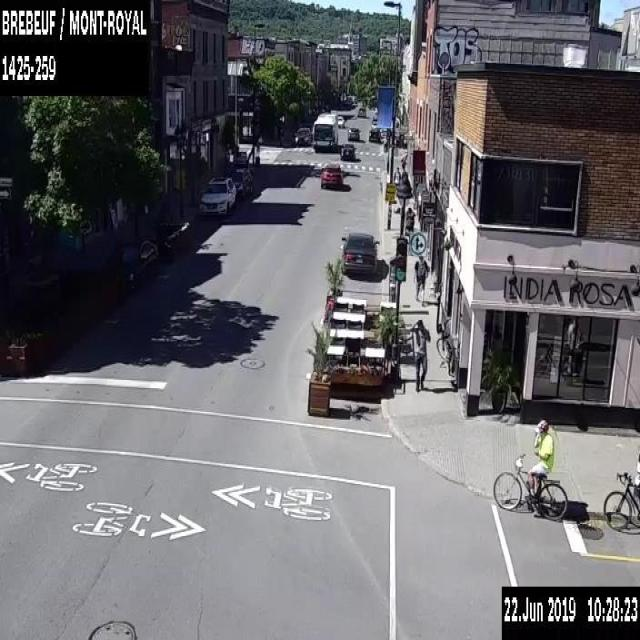bus: (312, 111, 338, 149)
cyclist: (492, 419, 567, 520), (602, 447, 639, 529)
pedestrian: (411, 317, 430, 392), (413, 253, 428, 303), (404, 207, 414, 236), (392, 165, 400, 201), (380, 134, 387, 150)
vehicle: (339, 231, 378, 276), (197, 174, 234, 215), (225, 164, 254, 200), (319, 164, 342, 188), (293, 126, 313, 144), (340, 144, 356, 161), (346, 125, 359, 139), (368, 124, 379, 140), (333, 113, 345, 126), (356, 105, 364, 116)
